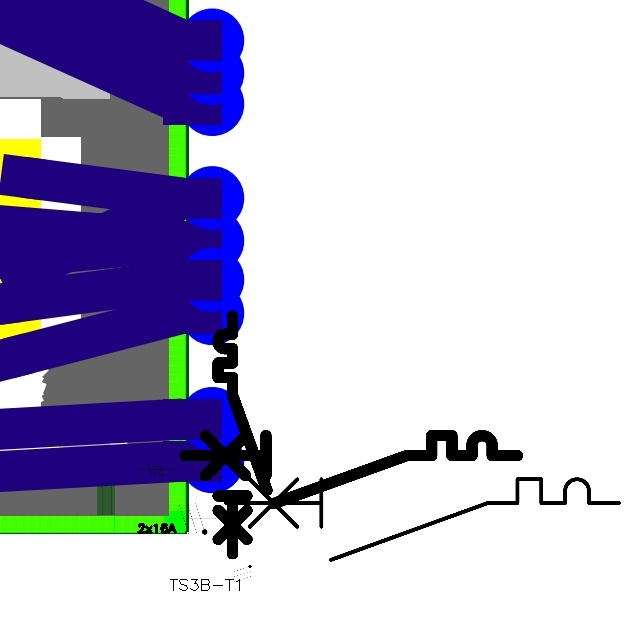interruptor_termomagnetico: (215, 469, 628, 570), (176, 427, 525, 512), (212, 310, 273, 560)
